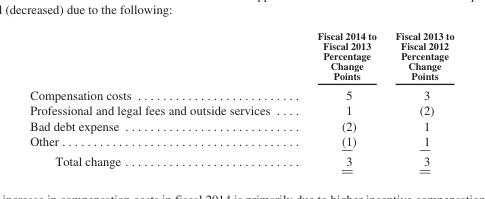table: (29, 29, 453, 167)
table column: (29, 29, 293, 167), (293, 29, 385, 167), (385, 29, 453, 167)
table column header: (29, 29, 453, 84)
table row: (29, 29, 453, 84), (29, 84, 453, 102), (29, 132, 453, 150), (29, 150, 453, 167), (29, 102, 453, 117), (29, 117, 453, 132)
